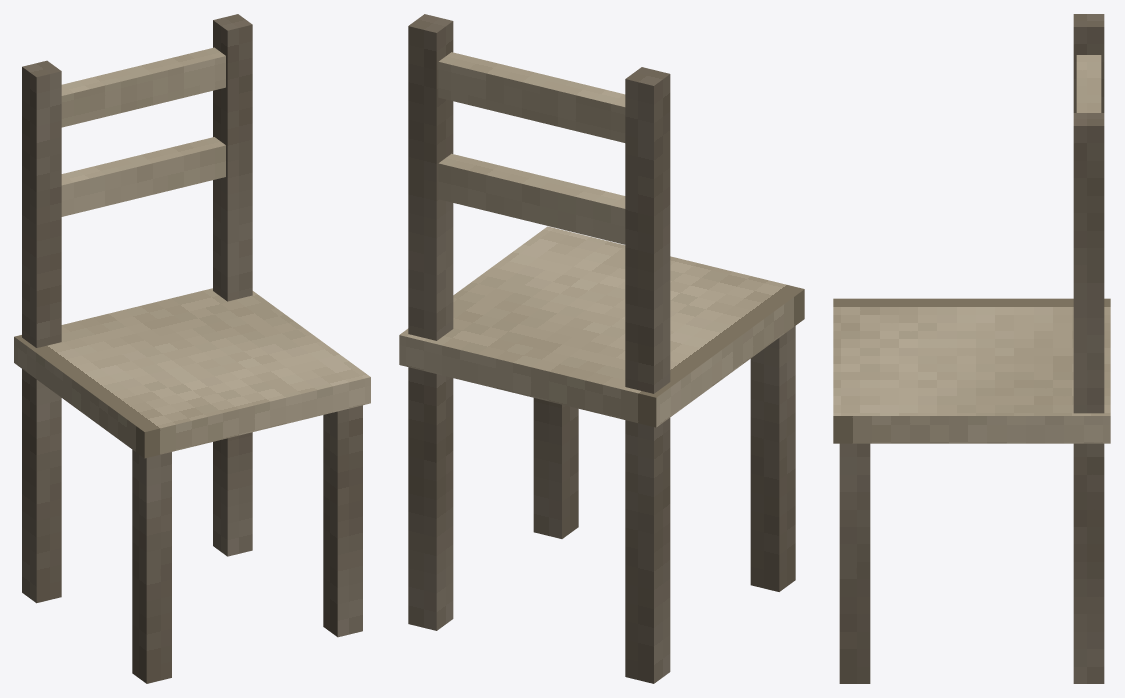
The model's file is chair_wood.obj.
3 renders of one model, left to right at view 1: azimuth 30°, elevation 25°; view 2: azimuth 150°, elevation 25°; view 3: azimuth 270°, elevation 25°, orthographic. The views are drawn at different scales.
Visible parts, largest first — view 1: chair_wood; view 2: chair_wood; view 3: chair_wood.
Part boxes in pixels (x1,y1,x2,y2): chair_wood: (14,14,370,683); chair_wood: (399,14,804,683); chair_wood: (833,14,1110,683).
Bounding box in the file's own units: 0.45 × 1 × 0.45.
